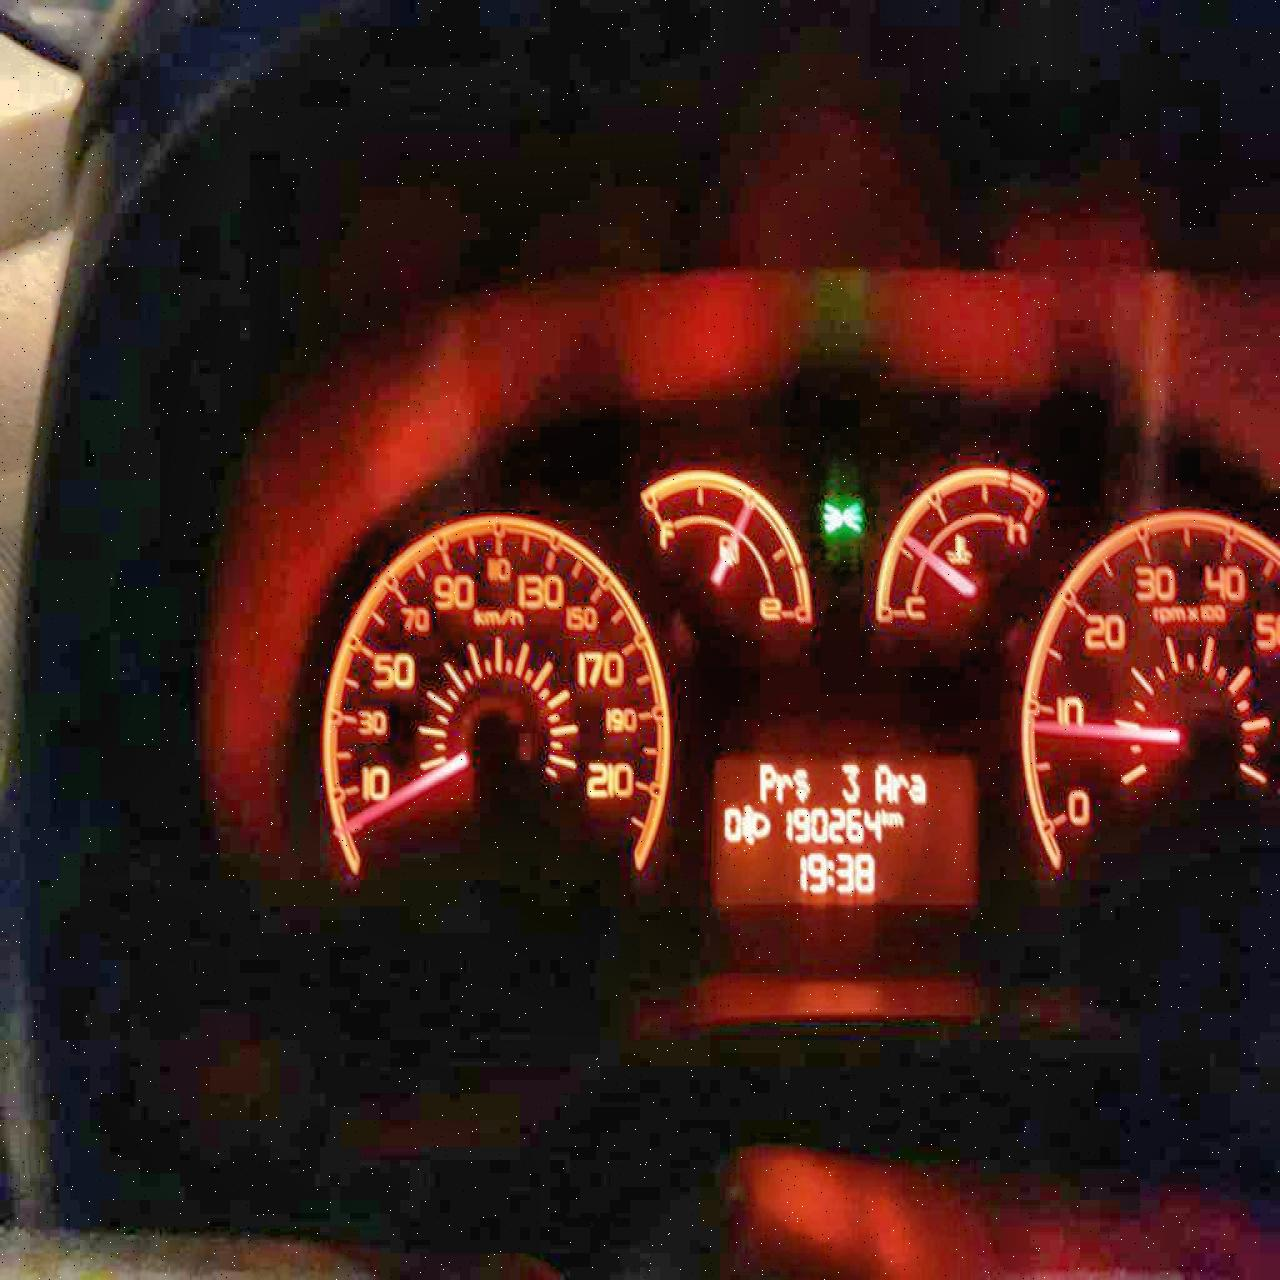0: (721, 803, 741, 844), (810, 805, 828, 845)
1: (797, 852, 806, 893), (783, 806, 792, 842)
2: (828, 805, 845, 845)
3: (839, 760, 862, 803), (836, 850, 853, 896)
4: (863, 805, 881, 843)
6: (845, 805, 864, 845)
8: (853, 850, 876, 896)
9: (806, 850, 825, 893), (791, 805, 810, 843)
X: (755, 760, 775, 805), (872, 760, 892, 803), (792, 764, 811, 803), (907, 770, 927, 805), (891, 768, 908, 805), (775, 770, 792, 803), (888, 809, 904, 826), (826, 857, 835, 886), (880, 805, 888, 826)
odometer: (707, 743, 983, 913)
